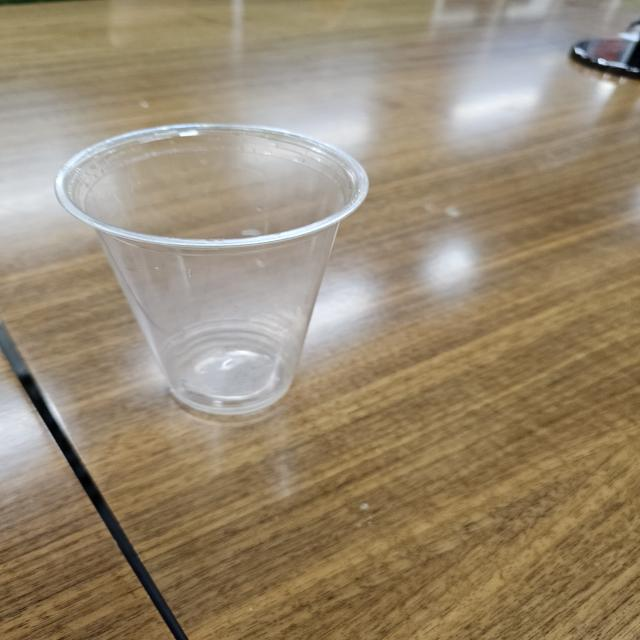cup: (54, 119, 369, 420)
